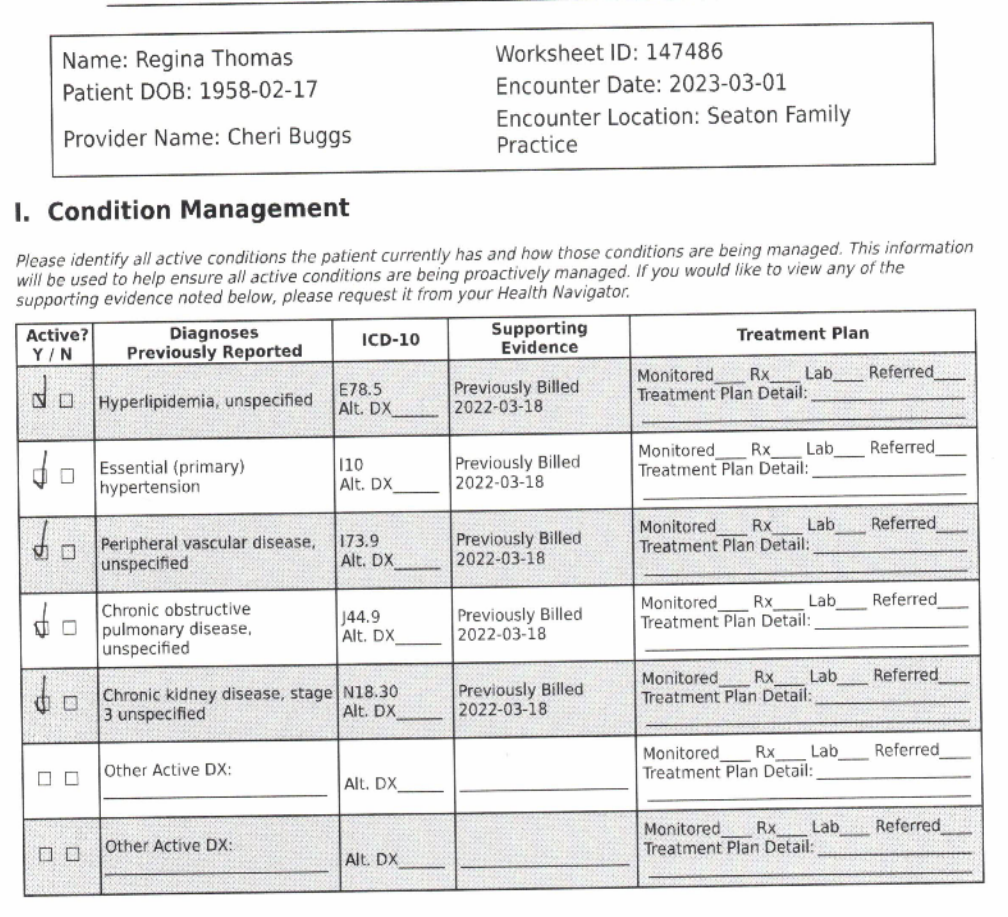checked: (25, 518, 57, 567), (25, 372, 55, 419), (28, 674, 57, 718), (30, 447, 55, 497), (29, 599, 55, 643)
